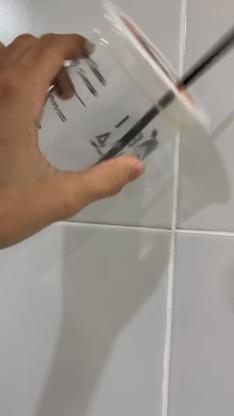Plastic Cup: (42, 2, 208, 172)
